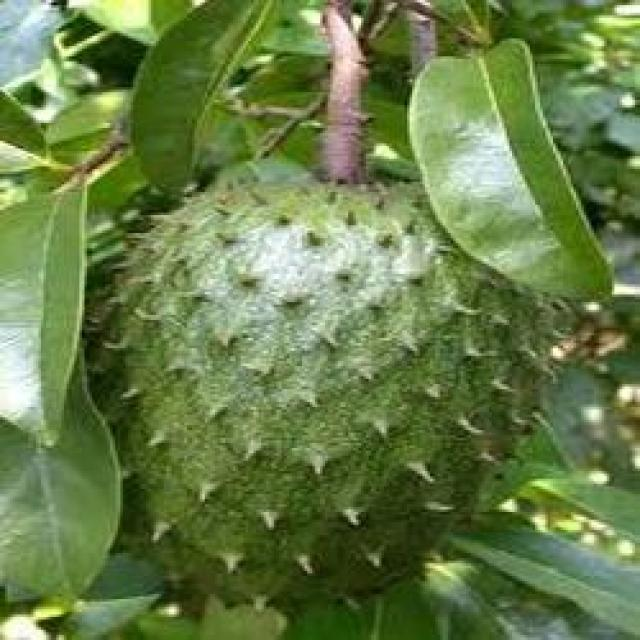apple: (82, 179, 553, 597)
